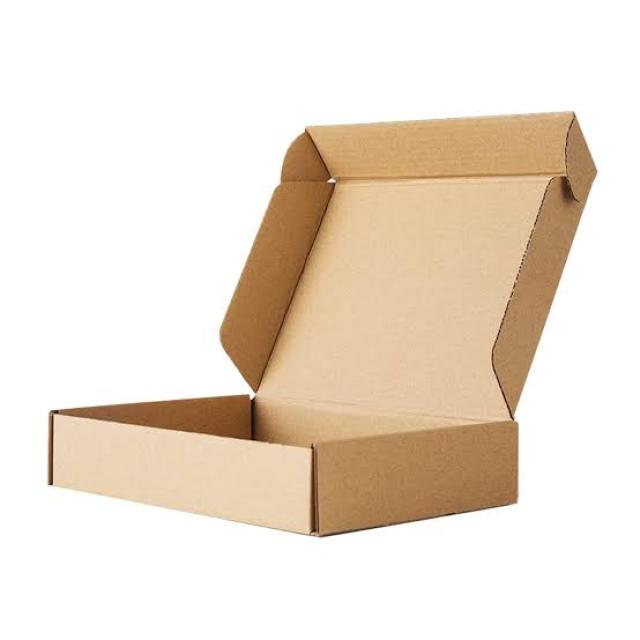paper: (41, 103, 606, 547)
